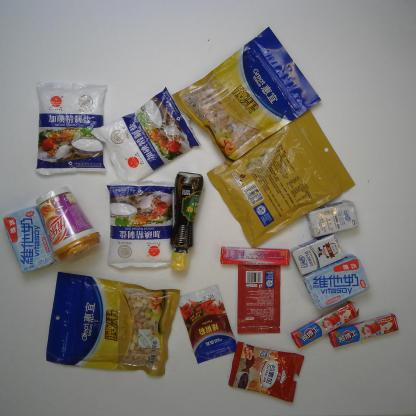Candy: (290, 298, 360, 349), (326, 312, 400, 348), (217, 244, 295, 268)
Dried Fruit: (202, 103, 359, 256), (170, 25, 326, 174), (45, 269, 183, 376)
Instant Drink: (31, 184, 104, 263), (225, 340, 308, 406)
Milk: (302, 251, 372, 313), (2, 202, 58, 278), (287, 228, 346, 278), (304, 194, 359, 239)
Seasoner: (89, 82, 205, 192), (100, 175, 184, 272), (32, 79, 108, 177), (172, 282, 241, 367), (166, 166, 206, 272), (234, 260, 284, 338)
